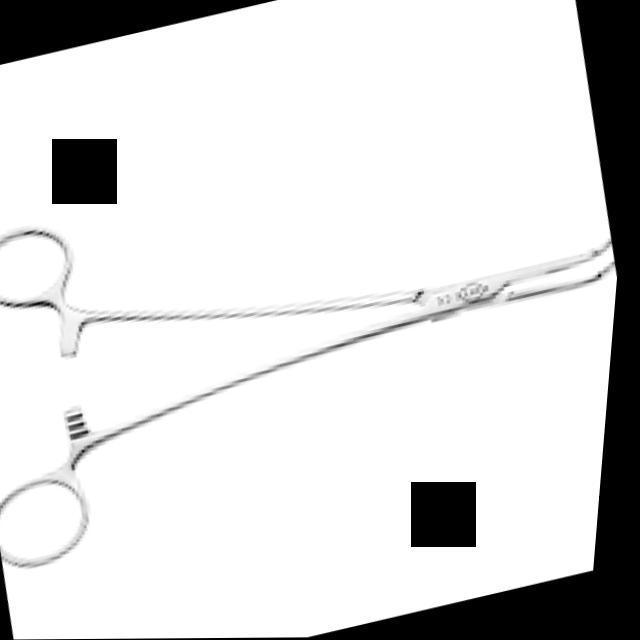Artery Forceps: (0, 88, 634, 583)
